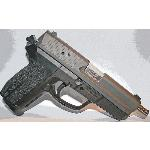Pistol: (0, 29, 148, 119)
